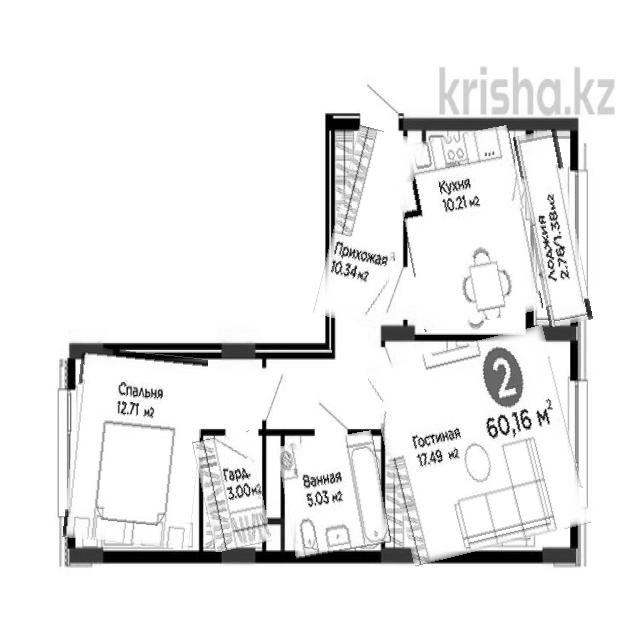balcony: (522, 130, 584, 326)
bathroom: (280, 434, 386, 556)
hallway: (324, 128, 412, 326)
kitchen: (398, 130, 535, 328)
living_room: (377, 335, 581, 557), (67, 350, 204, 548)
other: (197, 433, 267, 550)
